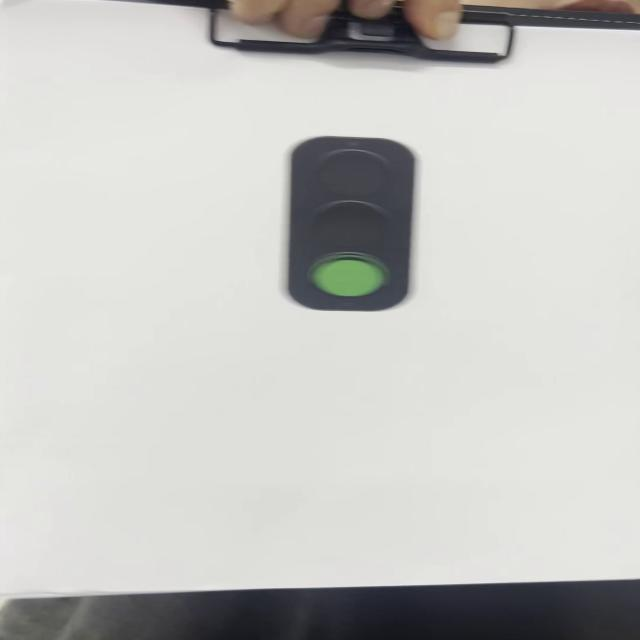green: (290, 135, 414, 314)
